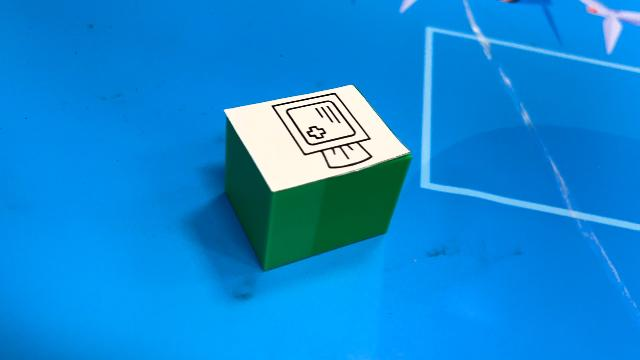napkin: (221, 82, 413, 272)
